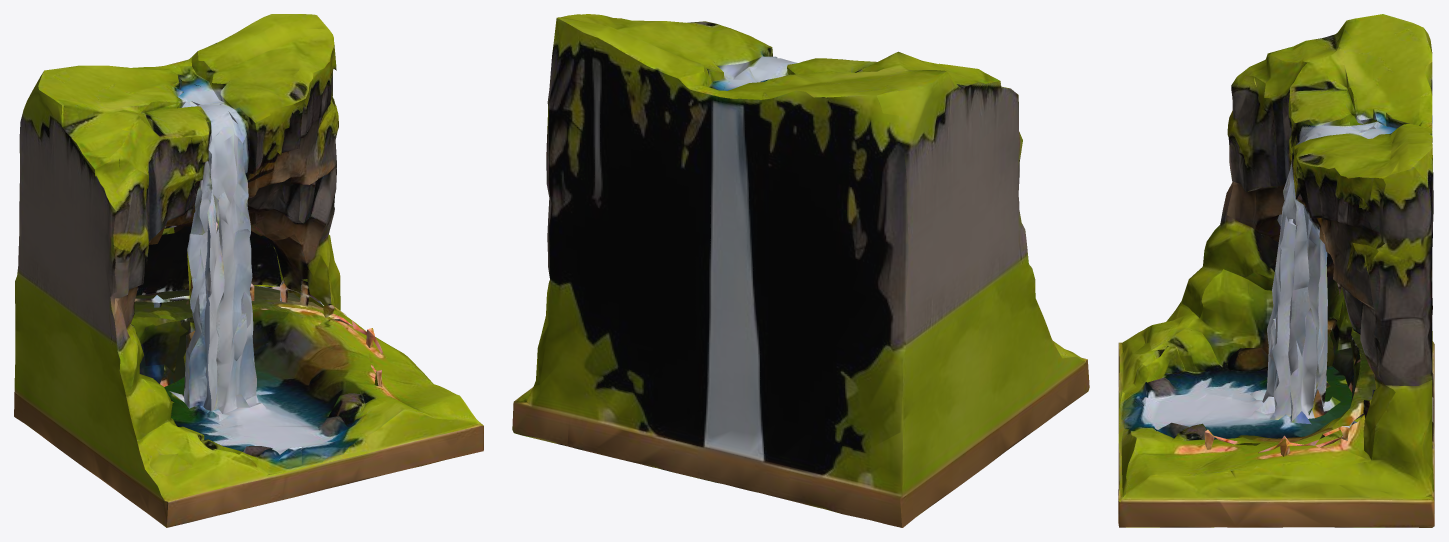
The model's file is seljalandsfoss.glb.
The picture shows the model from 3 angles, left to right: view 1: azimuth 30°, elevation 25°; view 2: azimuth 150°, elevation 25°; view 3: azimuth 270°, elevation 25°; orthographic projection. The views are drawn at different scales.
Visible parts, largest first — view 1: logan-textured.obj; view 2: logan-textured.obj; view 3: logan-textured.obj.
Boxes of the visible parts, x1,y1,x2,y2 form: logan-textured.obj: (14, 14, 483, 527); logan-textured.obj: (512, 14, 1089, 527); logan-textured.obj: (1118, 14, 1434, 527).
Size of the model in its own units: 0.9689 by 1 by 0.8076.
Materials: 1 (1 with a texture image).
